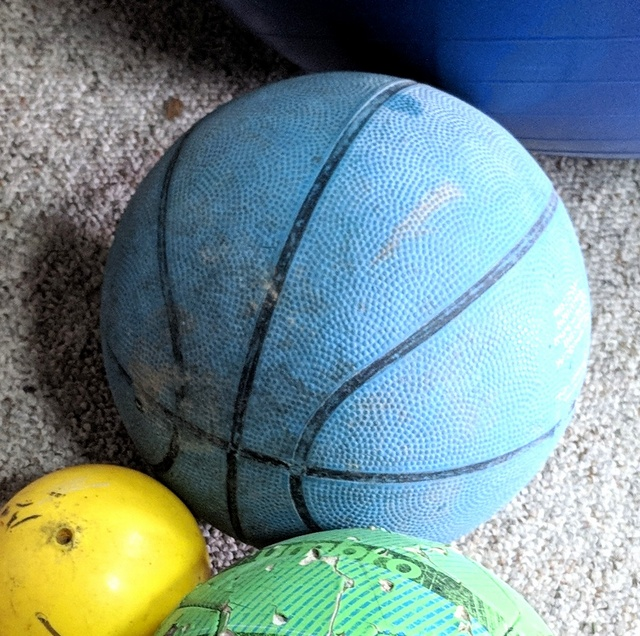ball: (99, 66, 594, 555)
